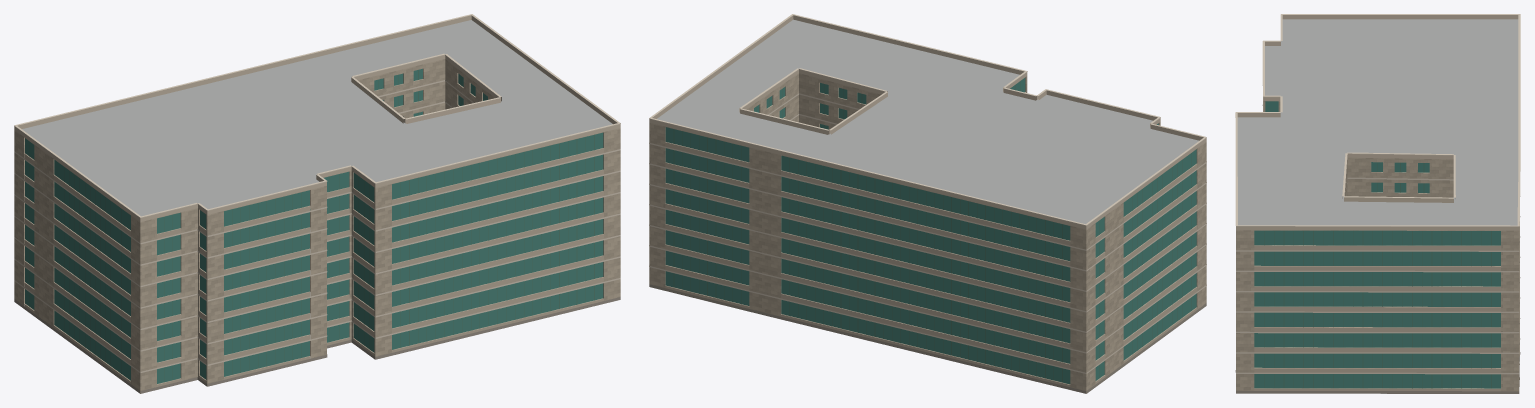
3 renders of one model, left to right at view 1: azimuth 30°, elevation 25°; view 2: azimuth 150°, elevation 25°; view 3: azimuth 270°, elevation 25°, orthographic. The views are drawn at different scales.
Visible parts, largest first — view 1: industryCoop__glass, industryCoop__roof, industryCoop__wall, industryCoop__spandrel, industryCoop__trim, industryCoop__parapet, industryCoop__frame, industryCoop__base; view 2: industryCoop__glass, industryCoop__roof, industryCoop__wall, industryCoop__spandrel, industryCoop__trim, industryCoop__parapet, industryCoop__frame, industryCoop__base; view 3: industryCoop__roof, industryCoop__glass, industryCoop__wall, industryCoop__spandrel, industryCoop__trim, industryCoop__parapet, industryCoop__frame, industryCoop__base.
Boxes of the visible parts, box(x1,y1,x2,y2) form: industryCoop__glass: box(25, 68, 603, 383); industryCoop__roof: box(22, 20, 612, 358); industryCoop__wall: box(14, 59, 620, 393); industryCoop__spandrel: box(24, 148, 603, 386); industryCoop__trim: box(14, 14, 620, 372); industryCoop__parapet: box(14, 15, 620, 221); industryCoop__frame: box(29, 70, 594, 381); industryCoop__base: box(14, 297, 620, 393); industryCoop__glass: box(665, 78, 1196, 384); industryCoop__roof: box(657, 19, 1198, 223); industryCoop__wall: box(649, 73, 1206, 393); industryCoop__spandrel: box(665, 142, 1197, 386); industryCoop__trim: box(649, 14, 1206, 373); industryCoop__parapet: box(649, 15, 1206, 229); industryCoop__frame: box(673, 81, 1191, 382); industryCoop__base: box(649, 284, 1206, 393); industryCoop__roof: box(1237, 19, 1519, 393); industryCoop__glass: box(1254, 101, 1500, 388); industryCoop__wall: box(1236, 96, 1519, 391); industryCoop__spandrel: box(1254, 245, 1500, 391); industryCoop__trim: box(1235, 14, 1520, 374); industryCoop__parapet: box(1236, 15, 1519, 230); industryCoop__frame: box(1264, 162, 1491, 388); industryCoop__base: box(1235, 352, 1520, 393).
Bounding box in the file's own units: 82.63 × 30.42 × 46.85.
Materials: 8 (1 with a texture image).
